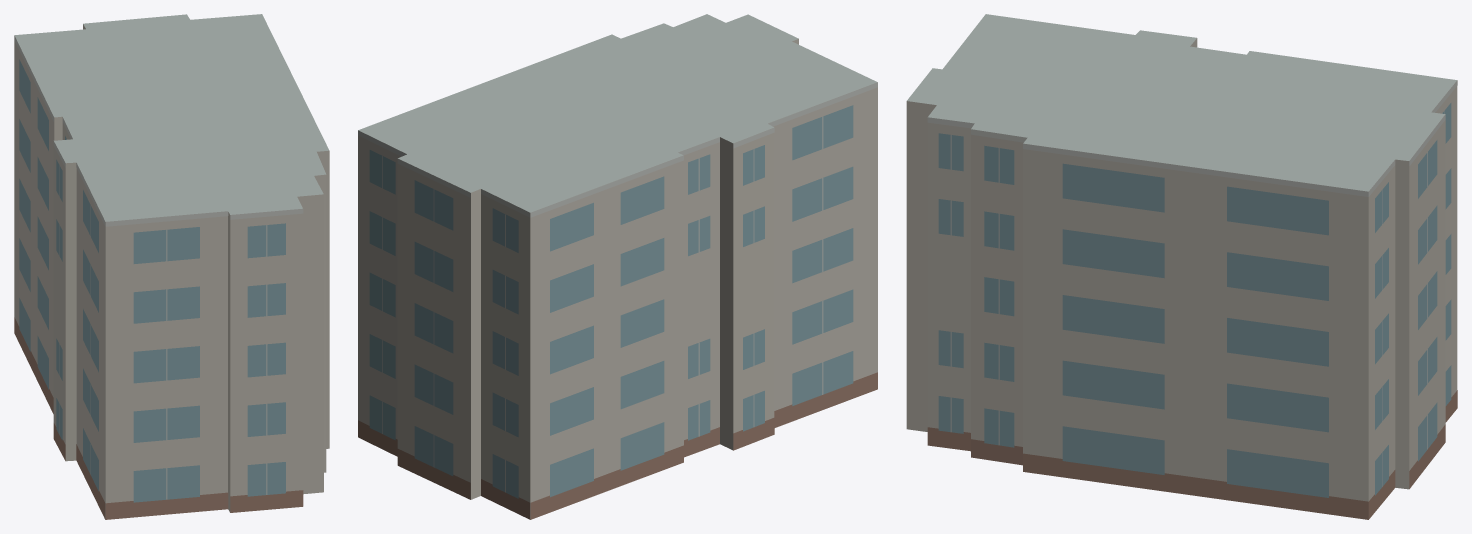
File: survey-upis-32656268.glb
3 renders of one model, left to right at view 1: azimuth 30°, elevation 25°; view 2: azimuth 150°, elevation 25°; view 3: azimuth 270°, elevation 25°, orthographic. The views are drawn at different scales.
Visible parts, largest first — view 1: survey-upis-32656268.tmp; view 2: survey-upis-32656268.tmp; view 3: survey-upis-32656268.tmp.
Part boxes in pixels (<box>): survey-upis-32656268.tmp: <box>14,14,329,519</box>; survey-upis-32656268.tmp: <box>358,14,877,519</box>; survey-upis-32656268.tmp: <box>906,14,1457,519</box>.
Size of the model in its own units: 17.07 by 14.7 by 22.36.
